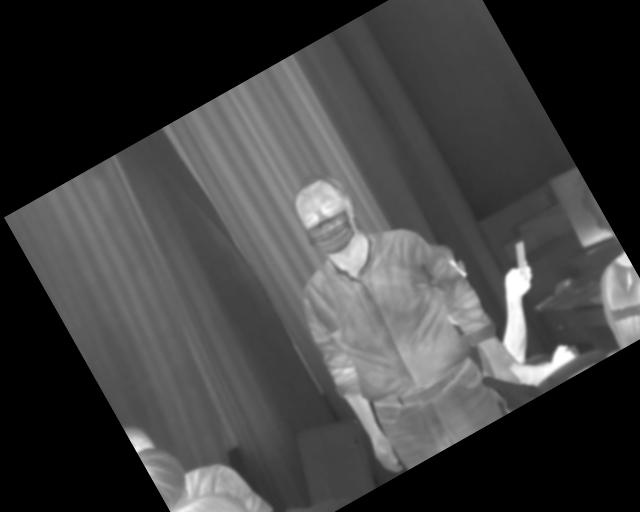face: (280, 164, 372, 263)
